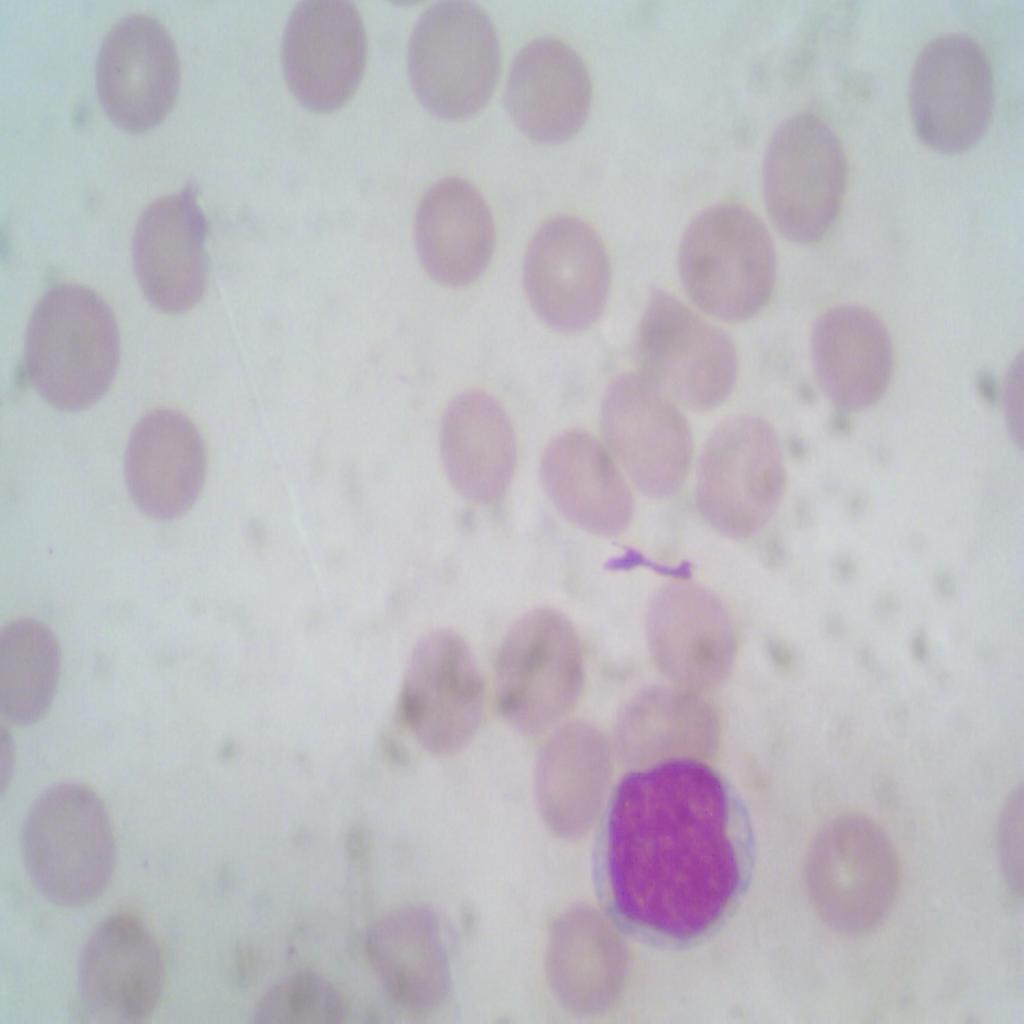Eritrosit: (118, 388, 216, 544), (18, 280, 130, 414), (121, 178, 221, 325), (513, 204, 618, 344), (388, 621, 486, 765), (688, 402, 784, 548), (584, 362, 691, 492), (538, 417, 636, 558), (15, 772, 116, 908), (84, 11, 195, 134), (896, 31, 1001, 159), (269, 0, 376, 125), (629, 562, 729, 695), (486, 605, 583, 740), (673, 202, 779, 324), (638, 285, 738, 414), (610, 671, 726, 782), (756, 108, 851, 241), (498, 41, 602, 161), (403, 6, 499, 134), (806, 808, 898, 938), (803, 304, 902, 420), (406, 169, 494, 292), (78, 911, 169, 1023), (540, 903, 626, 1021), (528, 725, 613, 842), (431, 394, 519, 501), (369, 895, 448, 1011), (0, 616, 61, 722)
Limfoblast: (589, 760, 766, 954)
